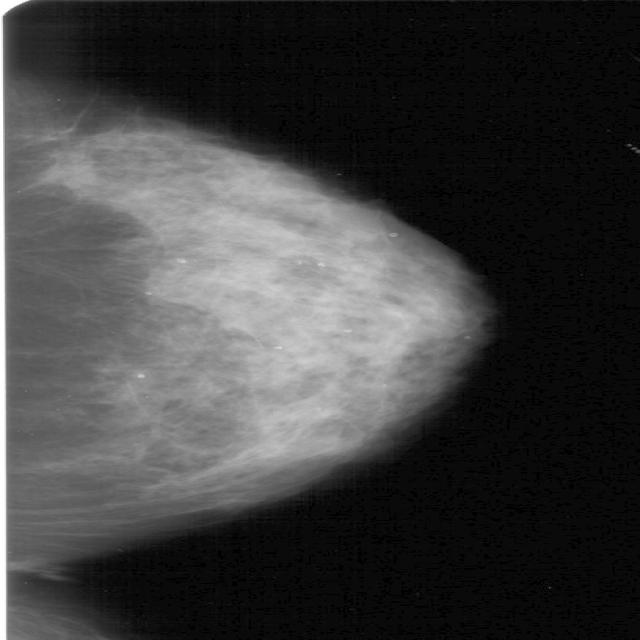tumour: (39, 149, 99, 187)
